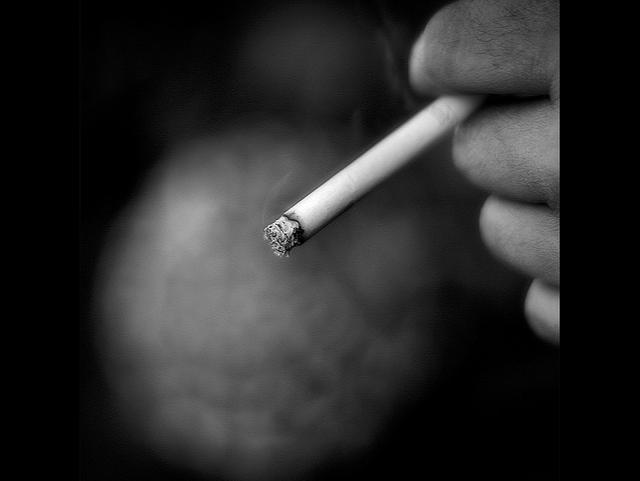Cigarette: (260, 89, 476, 253)
